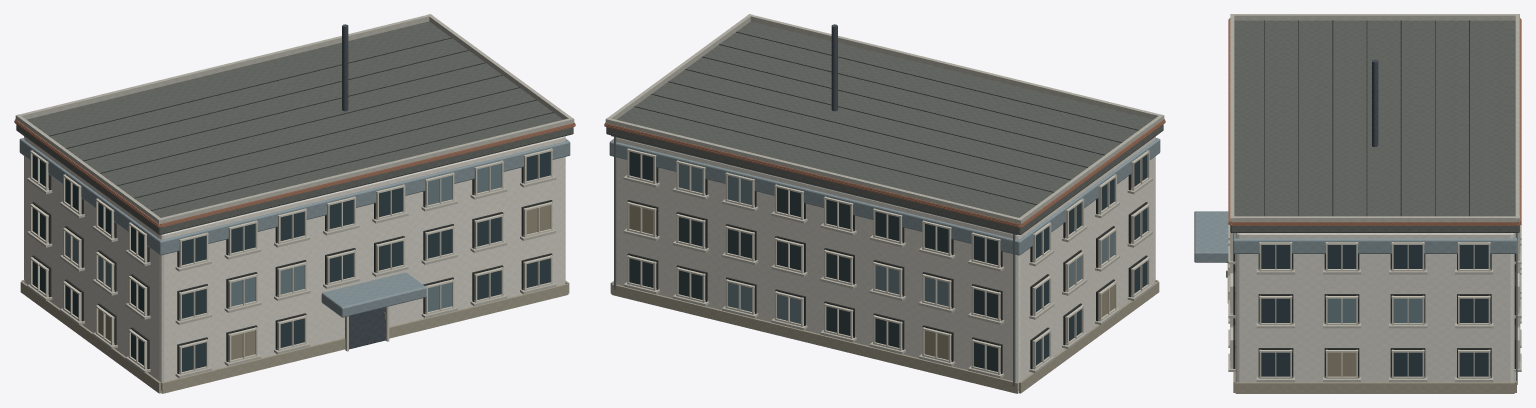
File: CIV_POLICE_3x2_002.glb
The picture shows the model from 3 angles, left to right: view 1: azimuth 30°, elevation 25°; view 2: azimuth 150°, elevation 25°; view 3: azimuth 270°, elevation 25°; orthographic projection.
Parts seen in each view (by area): view 1: CIV_POLICE_3x2_002_Visual; view 2: CIV_POLICE_3x2_002_Visual; view 3: CIV_POLICE_3x2_002_Visual.
Boxes of the visible parts, x1,y1,x2,y2 form: CIV_POLICE_3x2_002_Visual: [14, 14, 575, 393]; CIV_POLICE_3x2_002_Visual: [604, 14, 1165, 393]; CIV_POLICE_3x2_002_Visual: [1194, 14, 1521, 393].
Size of what is drawn, in the model's own units: 5.41 by 3.15 by 3.64.
13 materials, 7 textured.
